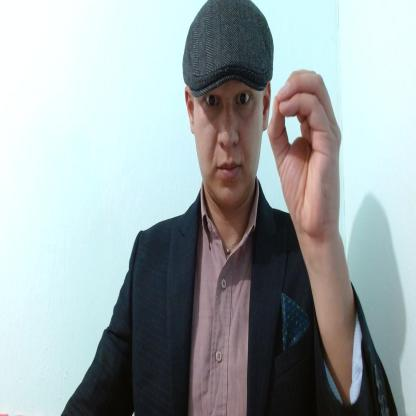O: (267, 66, 343, 235)
